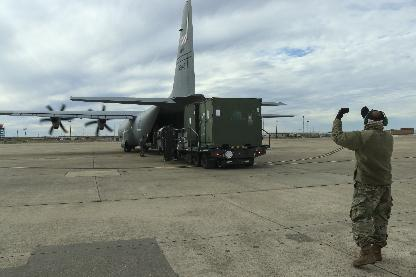Be200: (0, 0, 298, 151)
